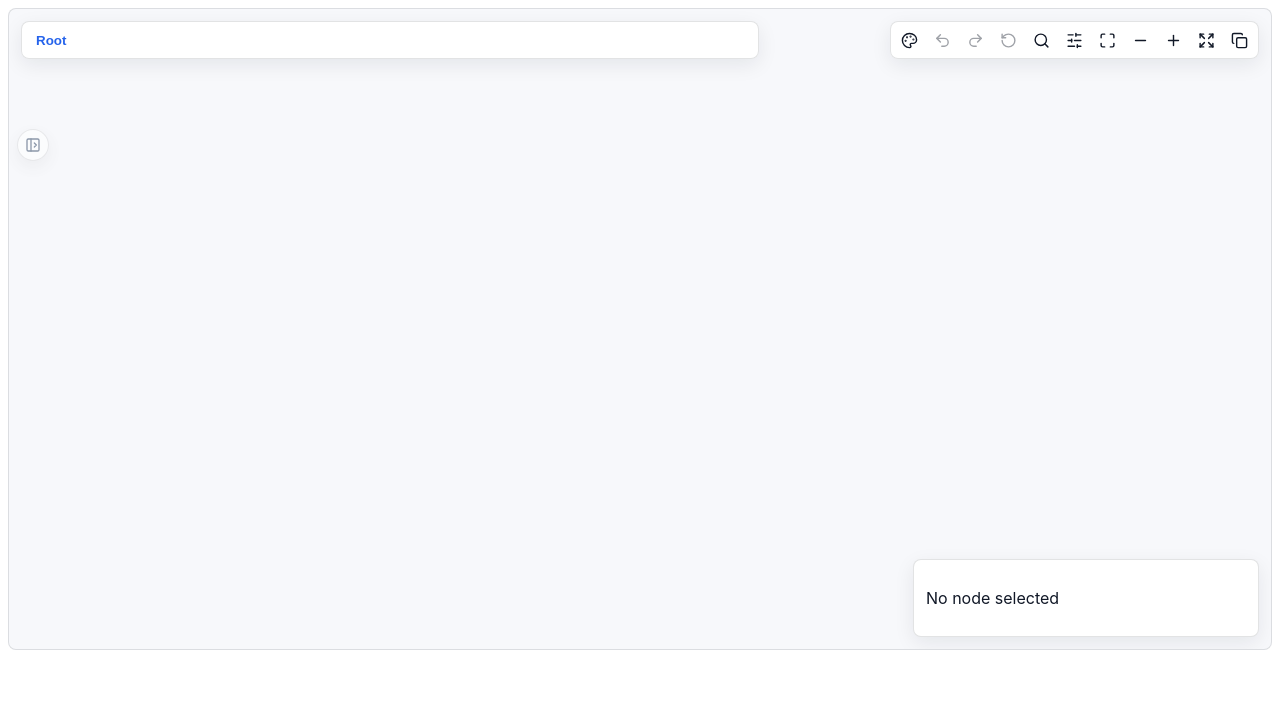
@my-mind-node/react › opens the branch tree with single-count parents collapsed by default
What coordinates should you click on to do the following:
click the button with class "mmn-branch-toggle-btn"
I would click on:
 (33, 145)
Its box is [17,129,49,161].
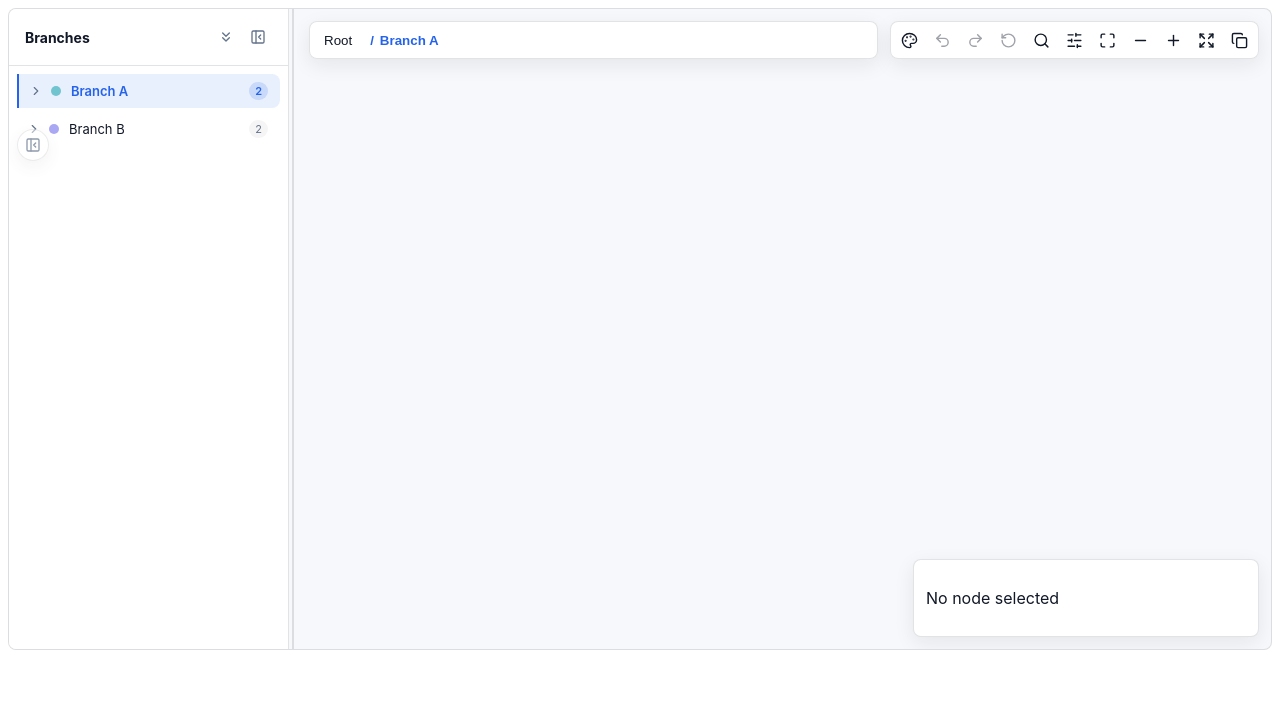
Now the element with class "mmn-branch-list-panel" is shown, box [9,9,289,649]
Now the number of list items with class "mmn-branch-list-item" is 2, box [17,74,280,108]; [27,120,268,138]
Now the button named "Expand all branches" is shown, box [212,23,240,51]
